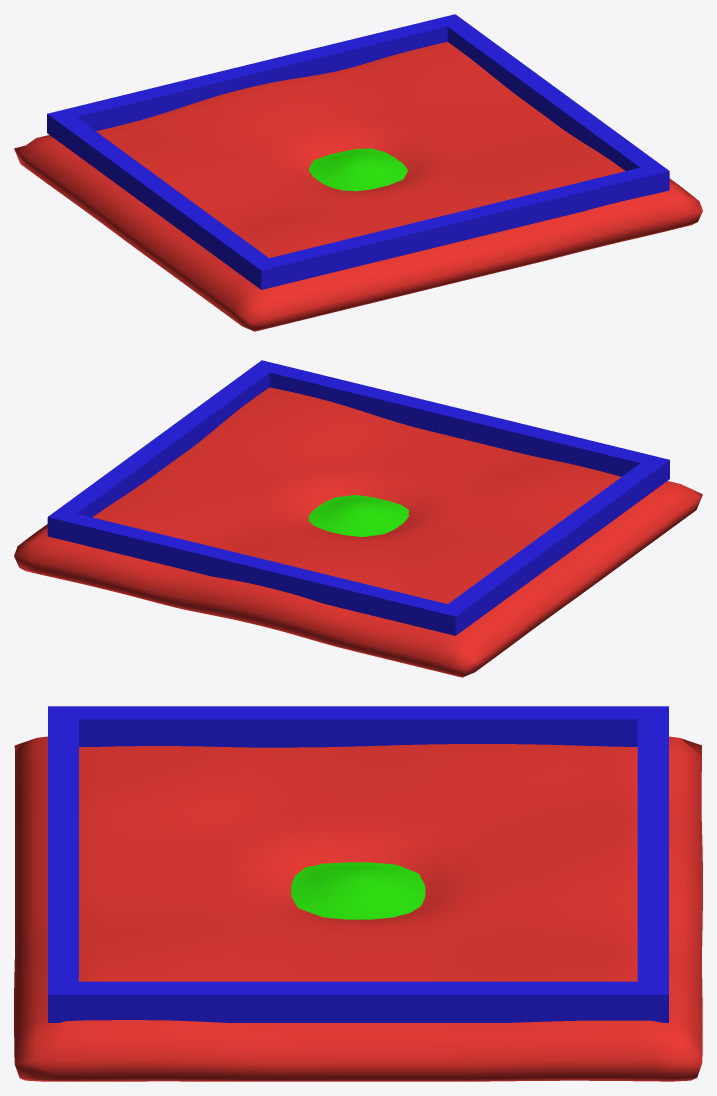
Rendered from cenario expressividade 2.fbx.
The picture shows the model from 3 angles, top to bottom: view 1: azimuth 30°, elevation 25°; view 2: azimuth 150°, elevation 25°; view 3: azimuth 270°, elevation 25°; orthographic projection. The views are drawn at different scales.
Visible parts, largest first — view 1: Areia, Cube, Agua; view 2: Areia, Cube, Agua; view 3: Areia, Cube, Agua.
Part boxes in pixels (x1,y1,x2,y2): Areia: (14,42,702,331); Cube: (47,14,669,289); Agua: (308,148,407,191); Areia: (14,387,702,677); Cube: (47,360,669,635); Agua: (308,495,408,536); Areia: (14,736,702,1081); Cube: (48,706,668,1022); Agua: (291,862,425,919).
Size of what is drawn, in the model's own units: 2475 by 268 by 2219.
